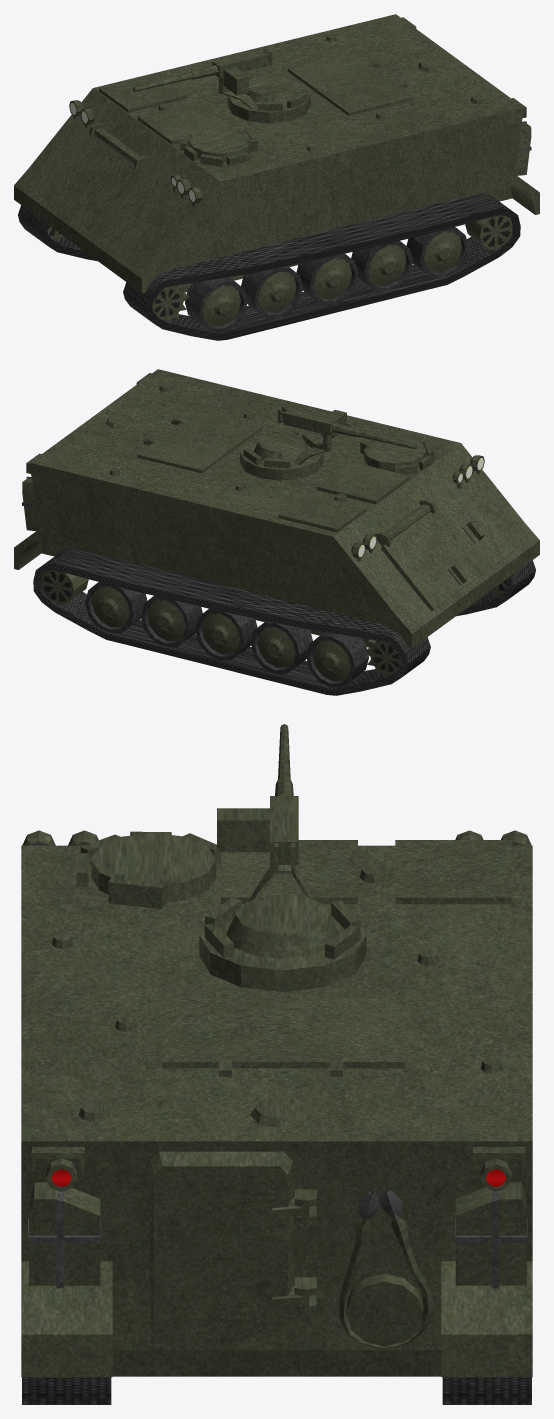
The picture shows the model from 3 angles, top to bottom: view 1: azimuth 30°, elevation 25°; view 2: azimuth 150°, elevation 25°; view 3: azimuth 270°, elevation 25°; orthographic projection. The views are drawn at different scales.
Visible parts, largest first — view 1: Plane_Plane.009; view 2: Plane_Plane.009; view 3: Plane_Plane.009.
Boxes of the visible parts, <box> form: Plane_Plane.009: <box>14,14,539,340</box>; Plane_Plane.009: <box>14,369,539,695</box>; Plane_Plane.009: <box>21,724,532,1404</box>.
Size of the model in its own units: 4.69 by 2.42 by 2.61.
Materials: 1 (1 with a texture image).
